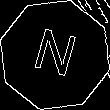N_S: (29, 25, 81, 85)
